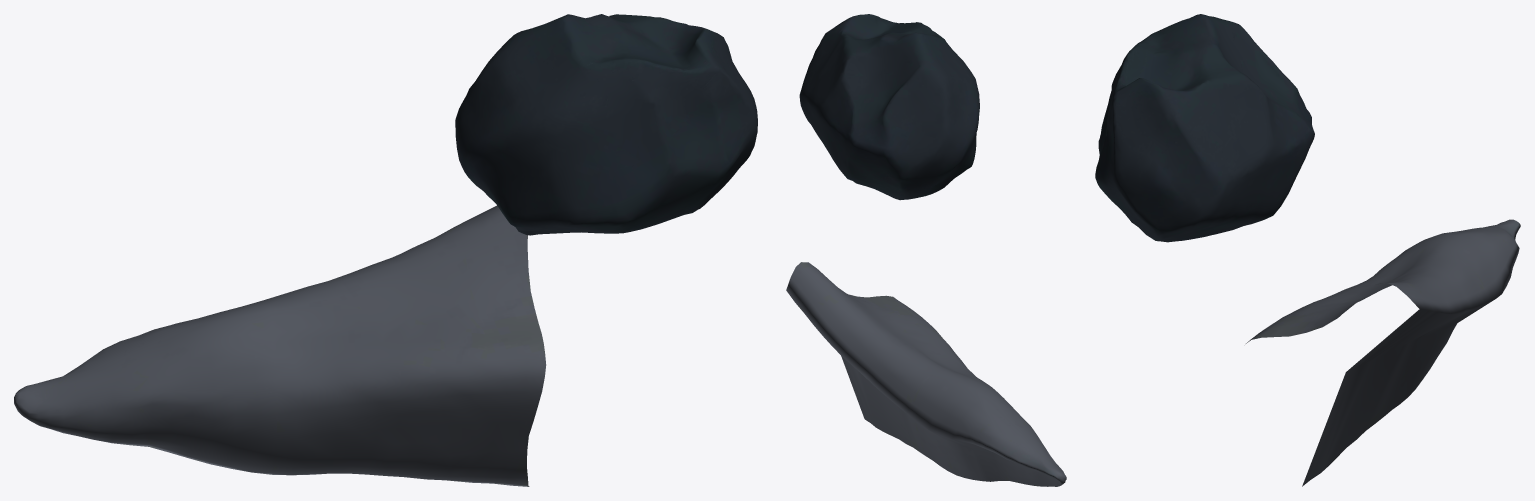
File: meteor-cold.glb
3 views of the same model, side by side, from view 1: azimuth 30°, elevation 25°; view 2: azimuth 150°, elevation 25°; view 3: azimuth 270°, elevation 25° (orthographic). The views are drawn at different scales.
Visible parts, largest first — view 1: Cold Stone Meteor; view 2: Cold Stone Meteor; view 3: Cold Stone Meteor.
Part boxes in pixels (x1=…): Cold Stone Meteor: x1=14, y1=14, x2=757, y2=486; Cold Stone Meteor: x1=786, y1=14, x2=1066, y2=486; Cold Stone Meteor: x1=1095, y1=14, x2=1520, y2=486.
Bounding box in the file's own units: 0.998 × 0.9082 × 0.7559.
Materials: 1 (1 with a texture image).
